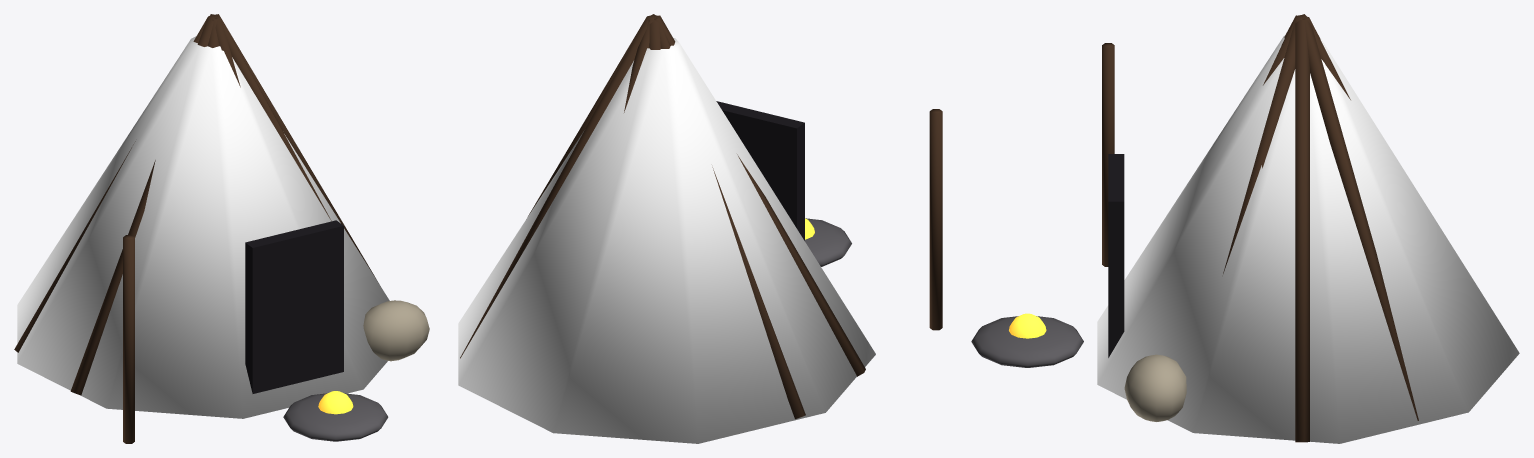
The model's file is szalas.glb.
3 renders of one model, left to right at view 1: azimuth 30°, elevation 25°; view 2: azimuth 150°, elevation 25°; view 3: azimuth 270°, elevation 25°, orthographic. The views are drawn at different scales.
Parts seen in each view (by area): view 1: szalas_10, szalas_12, szalas_13, szalas_16, szalas_17, szalas_6, szalas_9, szalas_1, szalas_5, szalas_14, szalas_8; view 2: szalas_10, szalas_12, szalas_17, szalas_2, szalas_6, szalas_5, szalas_13, szalas_1, szalas_3; view 3: szalas_10, szalas_1, szalas_2, szalas_13, szalas_16, szalas_12, szalas_17, szalas_9, szalas_14.
Part boxes in pixels (x1=…): szalas_10: x1=17, y1=36, x2=389, y2=418; szalas_12: x1=245, y1=220, x2=343, y2=393; szalas_13: x1=283, y1=393, x2=388, y2=441; szalas_16: x1=363, y1=300, x2=429, y2=361; szalas_17: x1=123, y1=235, x2=134, y2=443; szalas_6: x1=70, y1=17, x2=215, y2=395; szalas_9: x1=216, y1=16, x2=331, y2=220; szalas_1: x1=215, y1=14, x2=377, y2=281; szalas_5: x1=14, y1=16, x2=213, y2=352; szalas_14: x1=318, y1=391, x2=353, y2=414; szalas_8: x1=212, y1=18, x2=240, y2=87; szalas_10: x1=458, y1=37, x2=875, y2=443; szalas_12: x1=716, y1=101, x2=804, y2=240; szalas_17: x1=929, y1=109, x2=942, y2=330; szalas_2: x1=460, y1=17, x2=652, y2=358; szalas_6: x1=654, y1=17, x2=865, y2=376; szalas_5: x1=654, y1=18, x2=805, y2=419; szalas_13: x1=805, y1=218, x2=851, y2=266; szalas_1: x1=528, y1=15, x2=653, y2=215; szalas_3: x1=624, y1=19, x2=653, y2=112; szalas_10: x1=1097, y1=35, x2=1519, y2=443; szalas_1: x1=1295, y1=20, x2=1309, y2=442; szalas_2: x1=1304, y1=19, x2=1418, y2=420; szalas_13: x1=971, y1=316, x2=1083, y2=367; szalas_16: x1=1124, y1=354, x2=1186, y2=421; szalas_12: x1=1108, y1=154, x2=1124, y2=357; szalas_17: x1=1102, y1=43, x2=1114, y2=266; szalas_9: x1=1223, y1=19, x2=1299, y2=273; szalas_14: x1=1009, y1=313, x2=1046, y2=338.
Size of the model in its own units: 2.68 by 2.35 by 3.4.
